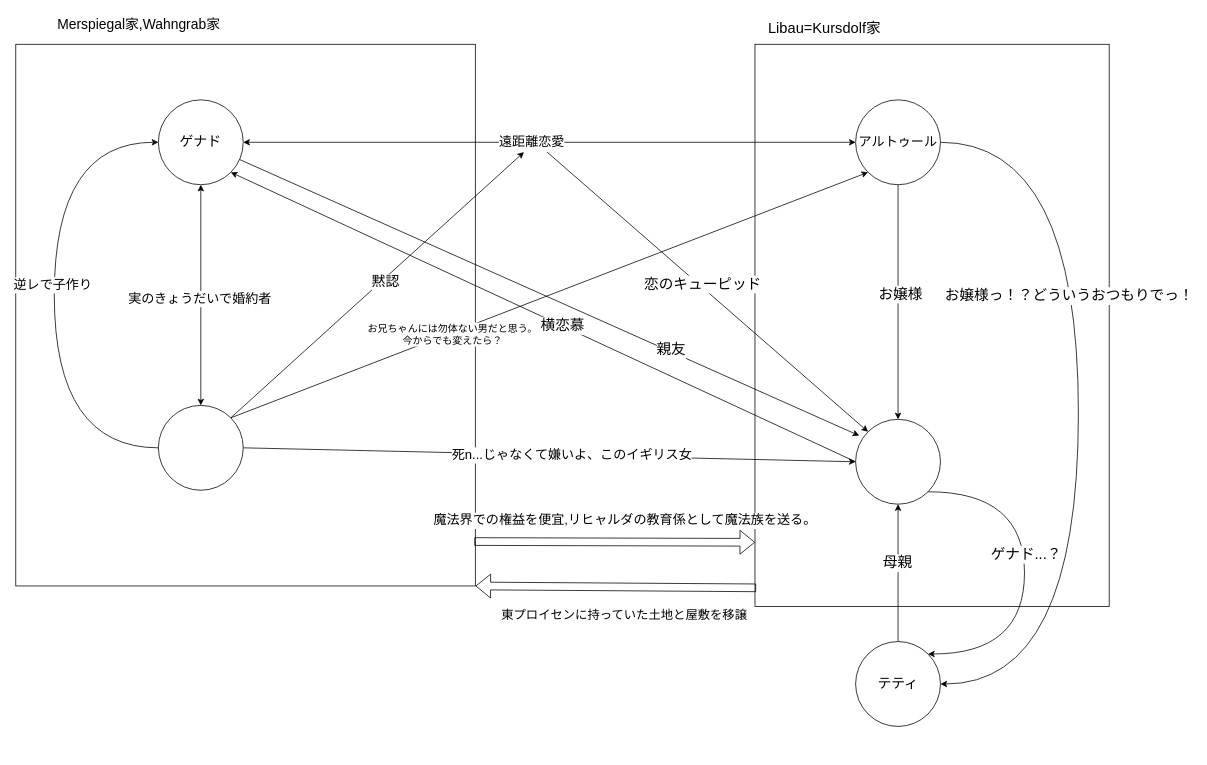
This 1207x765 diagram has some shape labels left out. The shapes that lost their labels are listed below. From the top down, each one's centre as x and y in pixels, then its label:
At point (200, 447): "ゲヌイナ".
At point (897, 461): "リヒャルダ".
